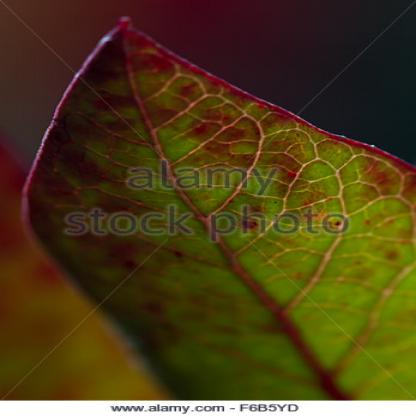blueberry leaf: (28, 9, 415, 394)
